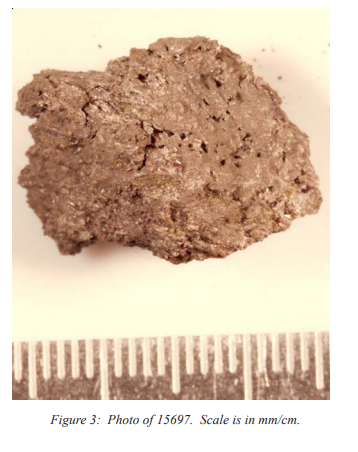Basalt: (9, 39, 283, 255), (85, 103, 315, 225)
